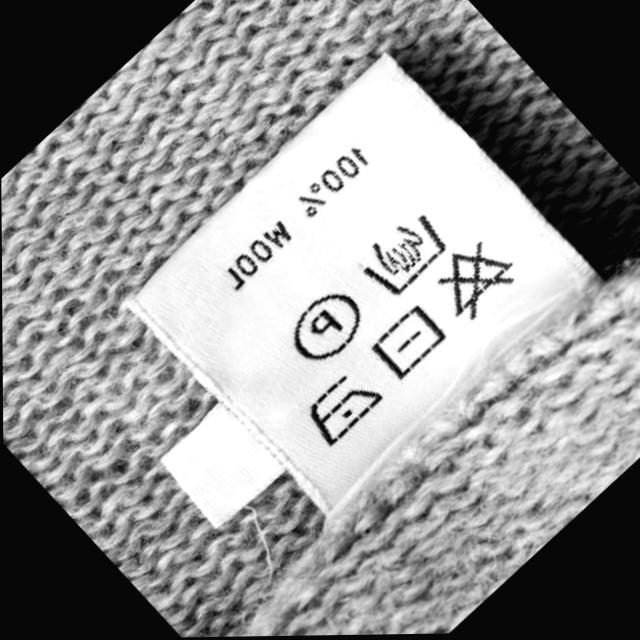DN_bleach: (442, 241, 517, 321)
dry_clean_any_solvent_except_trichloroethylene: (293, 286, 363, 363)
dry_flat: (374, 302, 450, 383)
hand_wash: (363, 210, 446, 296)
iron_low: (302, 365, 385, 445)
